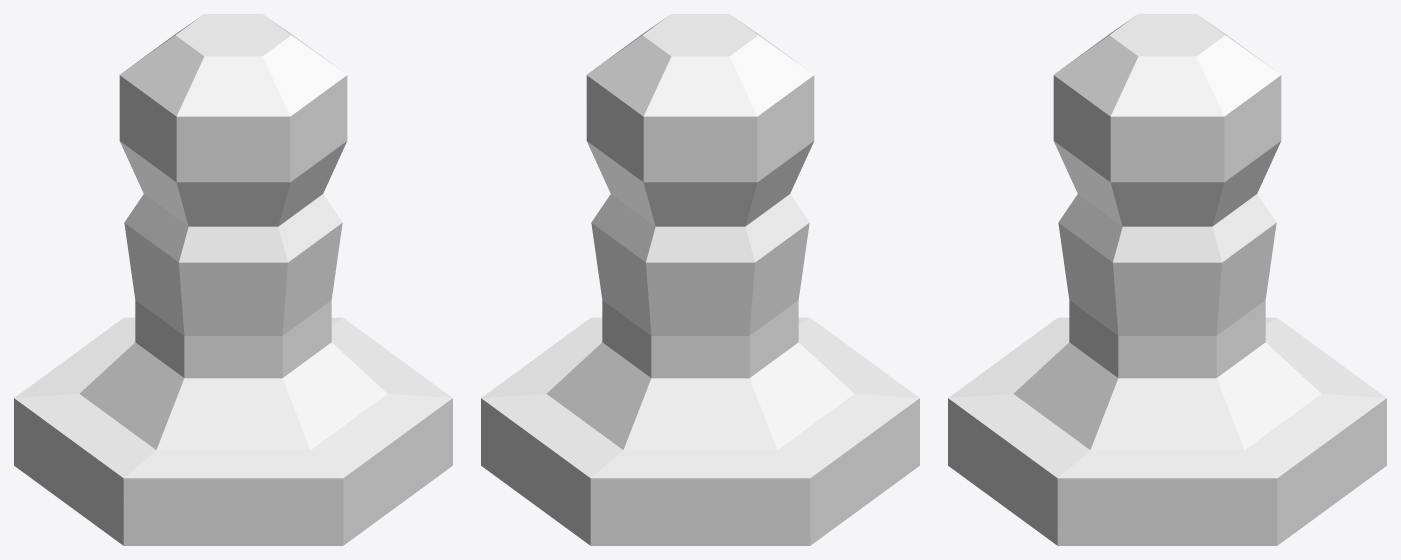
File: chesspiecepawn01.gltf
The picture shows the model from 3 angles, left to right: view 1: azimuth 30°, elevation 25°; view 2: azimuth 150°, elevation 25°; view 3: azimuth 270°, elevation 25°; orthographic projection.
Parts seen in each view (by area): view 1: Cylinder; view 2: Cylinder; view 3: Cylinder.
Part boxes in pixels (box(x1,y1,x2,y2)): Cylinder: box(14, 14, 452, 545); Cylinder: box(481, 14, 919, 545); Cylinder: box(948, 14, 1386, 545).
Size of the model in its own units: 0.0177 by 0.0221 by 0.0204.
1 material, 1 textured.
